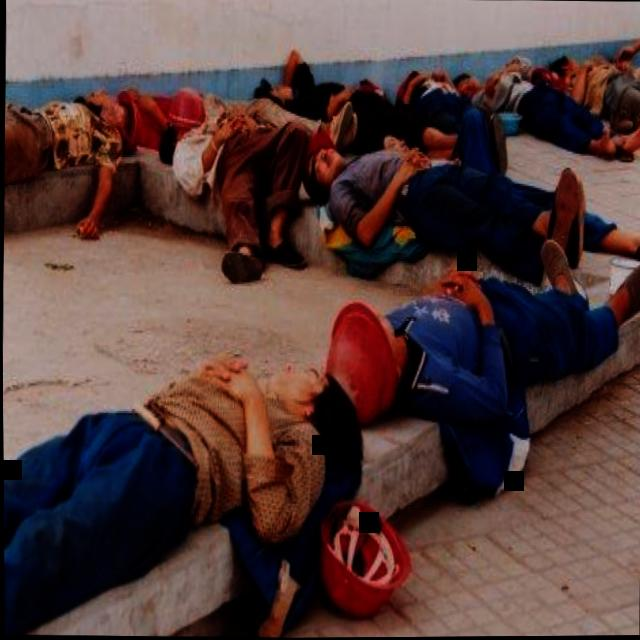Fall-Detected: (552, 31, 640, 156)
